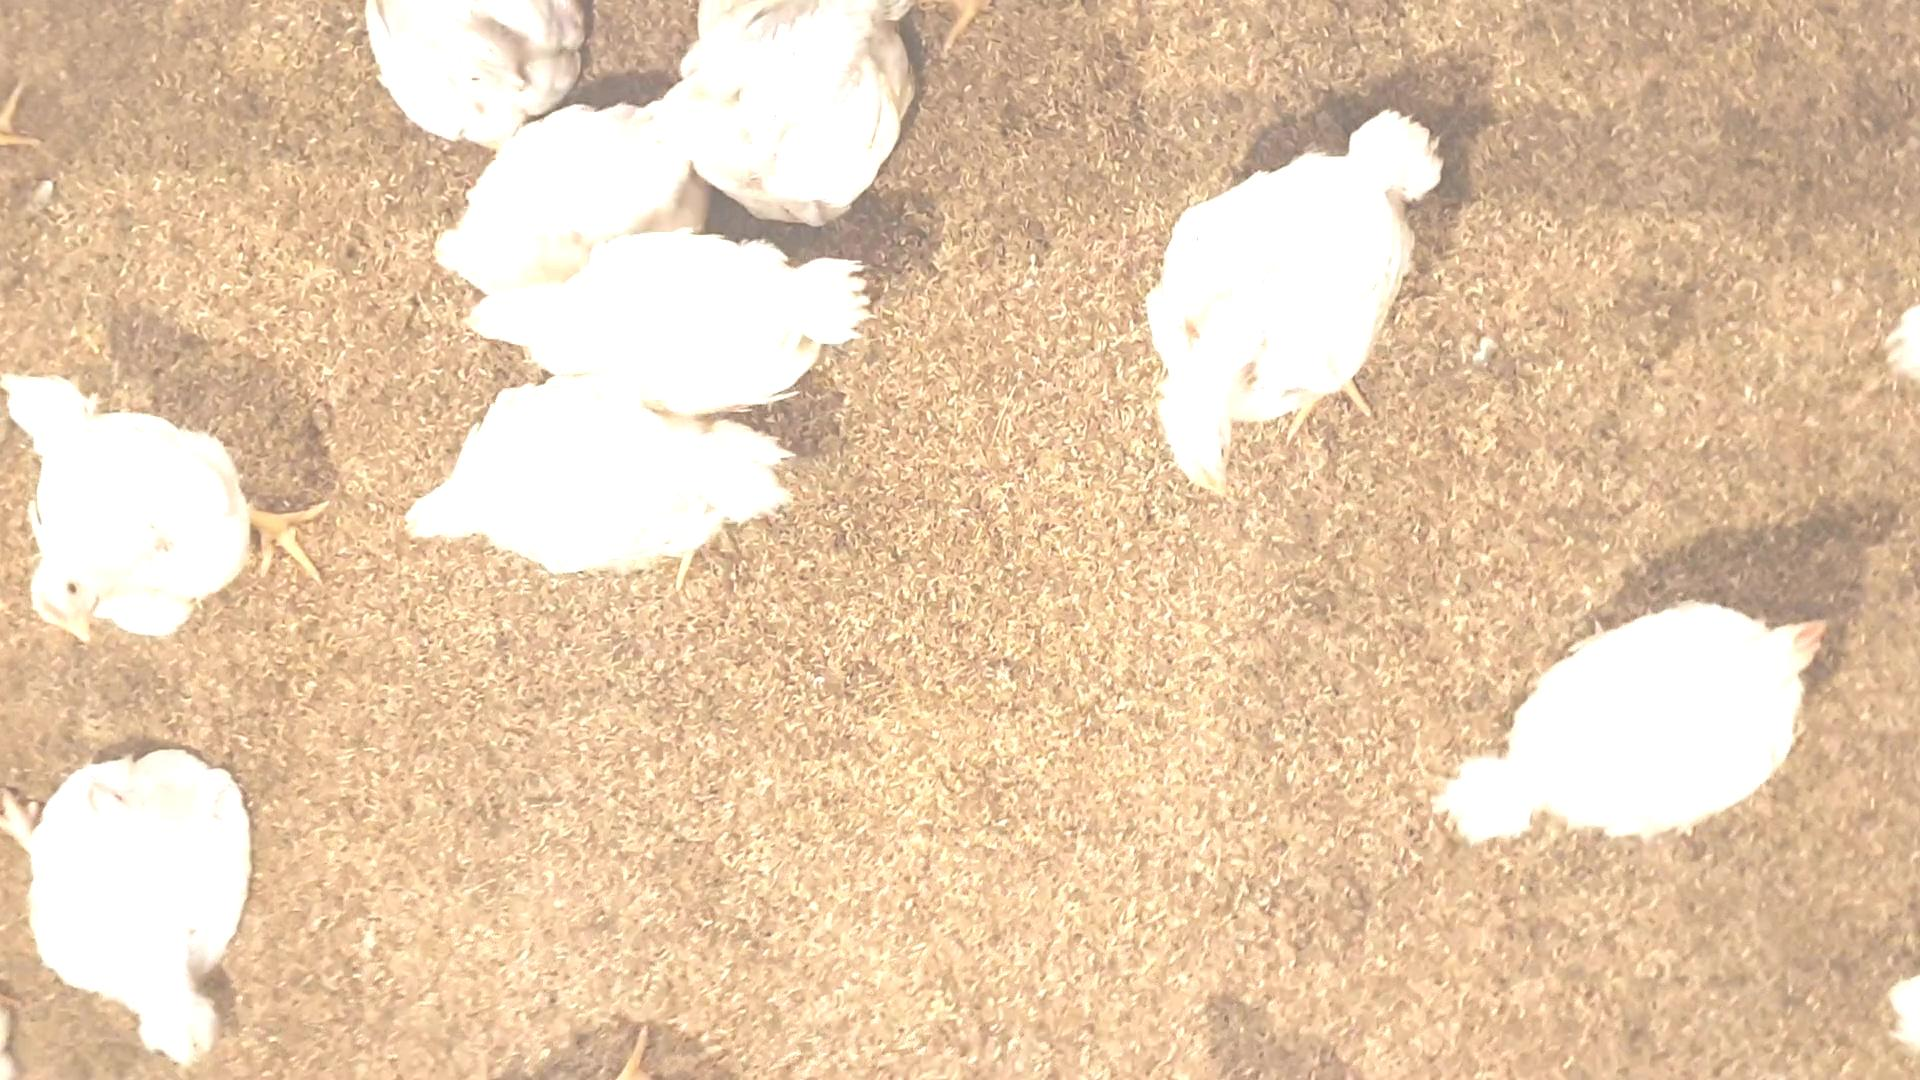Pollos: (1135, 105, 1443, 492), (1429, 597, 1840, 870), (455, 227, 865, 404), (26, 740, 257, 1048), (7, 372, 247, 651), (392, 404, 762, 567), (622, 21, 947, 199), (352, 1, 578, 124)
